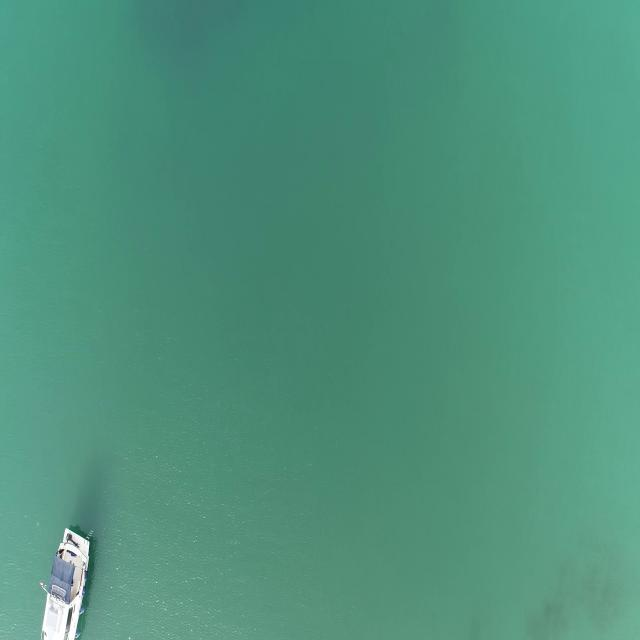boat: (36, 523, 96, 640)
